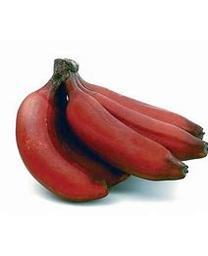banana: (15, 57, 204, 202)
